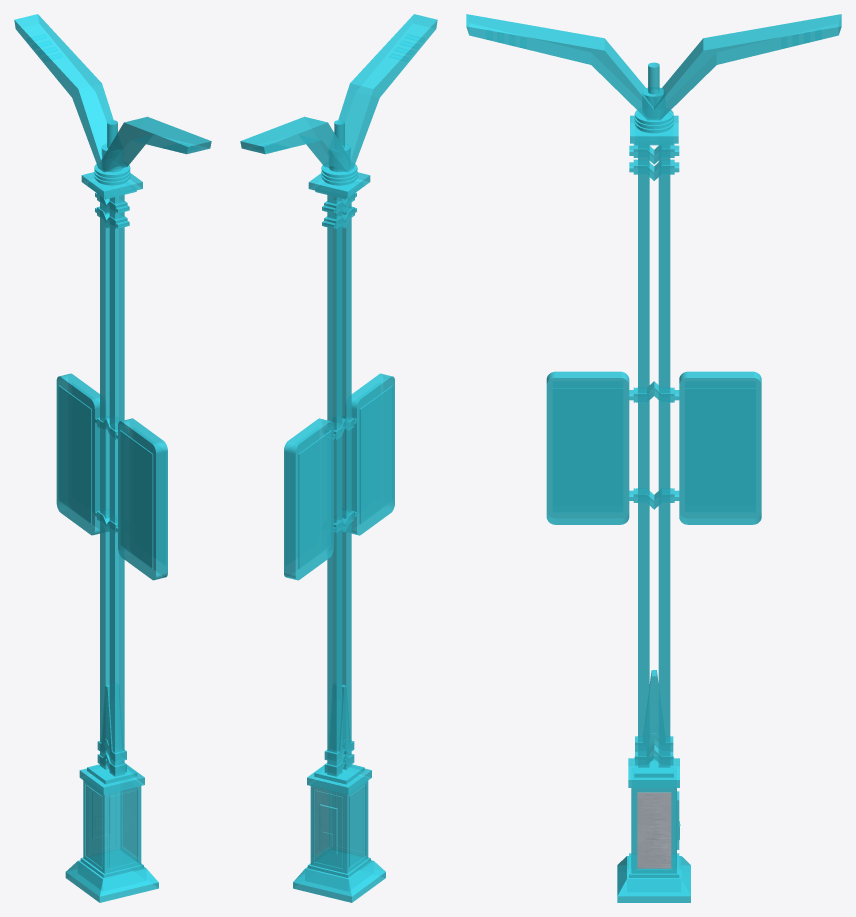
Rendered from light.obj.
3 renders of one model, left to right at view 1: azimuth 30°, elevation 25°; view 2: azimuth 150°, elevation 25°; view 3: azimuth 270°, elevation 25°, orthographic. The views are drawn at different scales.
Visible parts, largest first — view 1: Mesh8 ___22_1 ___20_1 Model, Mesh5 Group4 ___22_1 ___20_1 Model, Mesh2 Group2 ___22_1 ___20_1 Model, Mesh1 Group1 ___20_1 Model, Mesh4 Group3 ___22_1 ___20_1 Model; view 2: Mesh8 ___22_1 ___20_1 Model, Mesh5 Group4 ___22_1 ___20_1 Model, Mesh2 Group2 ___22_1 ___20_1 Model, Mesh1 Group1 ___20_1 Model, Mesh4 Group3 ___22_1 ___20_1 Model; view 3: Mesh5 Group4 ___22_1 ___20_1 Model, Mesh8 ___22_1 ___20_1 Model, Mesh1 Group1 ___20_1 Model, Mesh2 Group2 ___22_1 ___20_1 Model, Mesh4 Group3 ___22_1 ___20_1 Model.
Boxes of the visible parts, bbox=[...] form: Mesh8 ___22_1 ___20_1 Model: bbox=[81, 120, 142, 776]; Mesh5 Group4 ___22_1 ___20_1 Model: bbox=[56, 373, 167, 580]; Mesh2 Group2 ___22_1 ___20_1 Model: bbox=[65, 764, 158, 902]; Mesh1 Group1 ___20_1 Model: bbox=[14, 14, 211, 172]; Mesh4 Group3 ___22_1 ___20_1 Model: bbox=[97, 684, 126, 762]; Mesh8 ___22_1 ___20_1 Model: bbox=[308, 120, 370, 776]; Mesh5 Group4 ___22_1 ___20_1 Model: bbox=[284, 373, 394, 580]; Mesh2 Group2 ___22_1 ___20_1 Model: bbox=[293, 764, 385, 902]; Mesh1 Group1 ___20_1 Model: bbox=[240, 14, 437, 172]; Mesh4 Group3 ___22_1 ___20_1 Model: bbox=[324, 684, 354, 762]; Mesh5 Group4 ___22_1 ___20_1 Model: bbox=[546, 371, 761, 524]; Mesh8 ___22_1 ___20_1 Model: bbox=[630, 62, 678, 767]; Mesh1 Group1 ___20_1 Model: bbox=[466, 14, 841, 120]; Mesh2 Group2 ___22_1 ___20_1 Model: bbox=[617, 756, 690, 902]; Mesh4 Group3 ___22_1 ___20_1 Model: bbox=[635, 670, 673, 751].
Size of the model in its own units: 50 by 649 by 255.
Materials: 2 (1 with a texture image).
